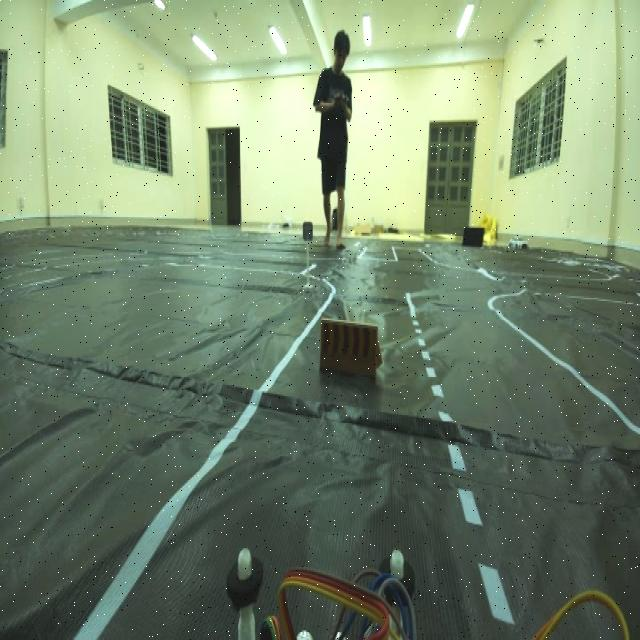roadblock: (315, 309, 390, 394)
